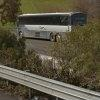Bus: (13, 7, 86, 44)
